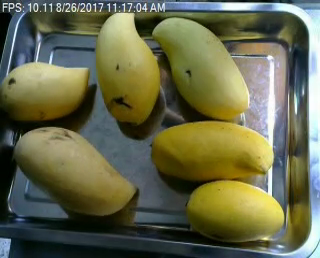Mango: (13, 126, 136, 216), (152, 15, 250, 119), (151, 120, 273, 181), (95, 11, 159, 122), (187, 180, 284, 240), (0, 61, 89, 120)
